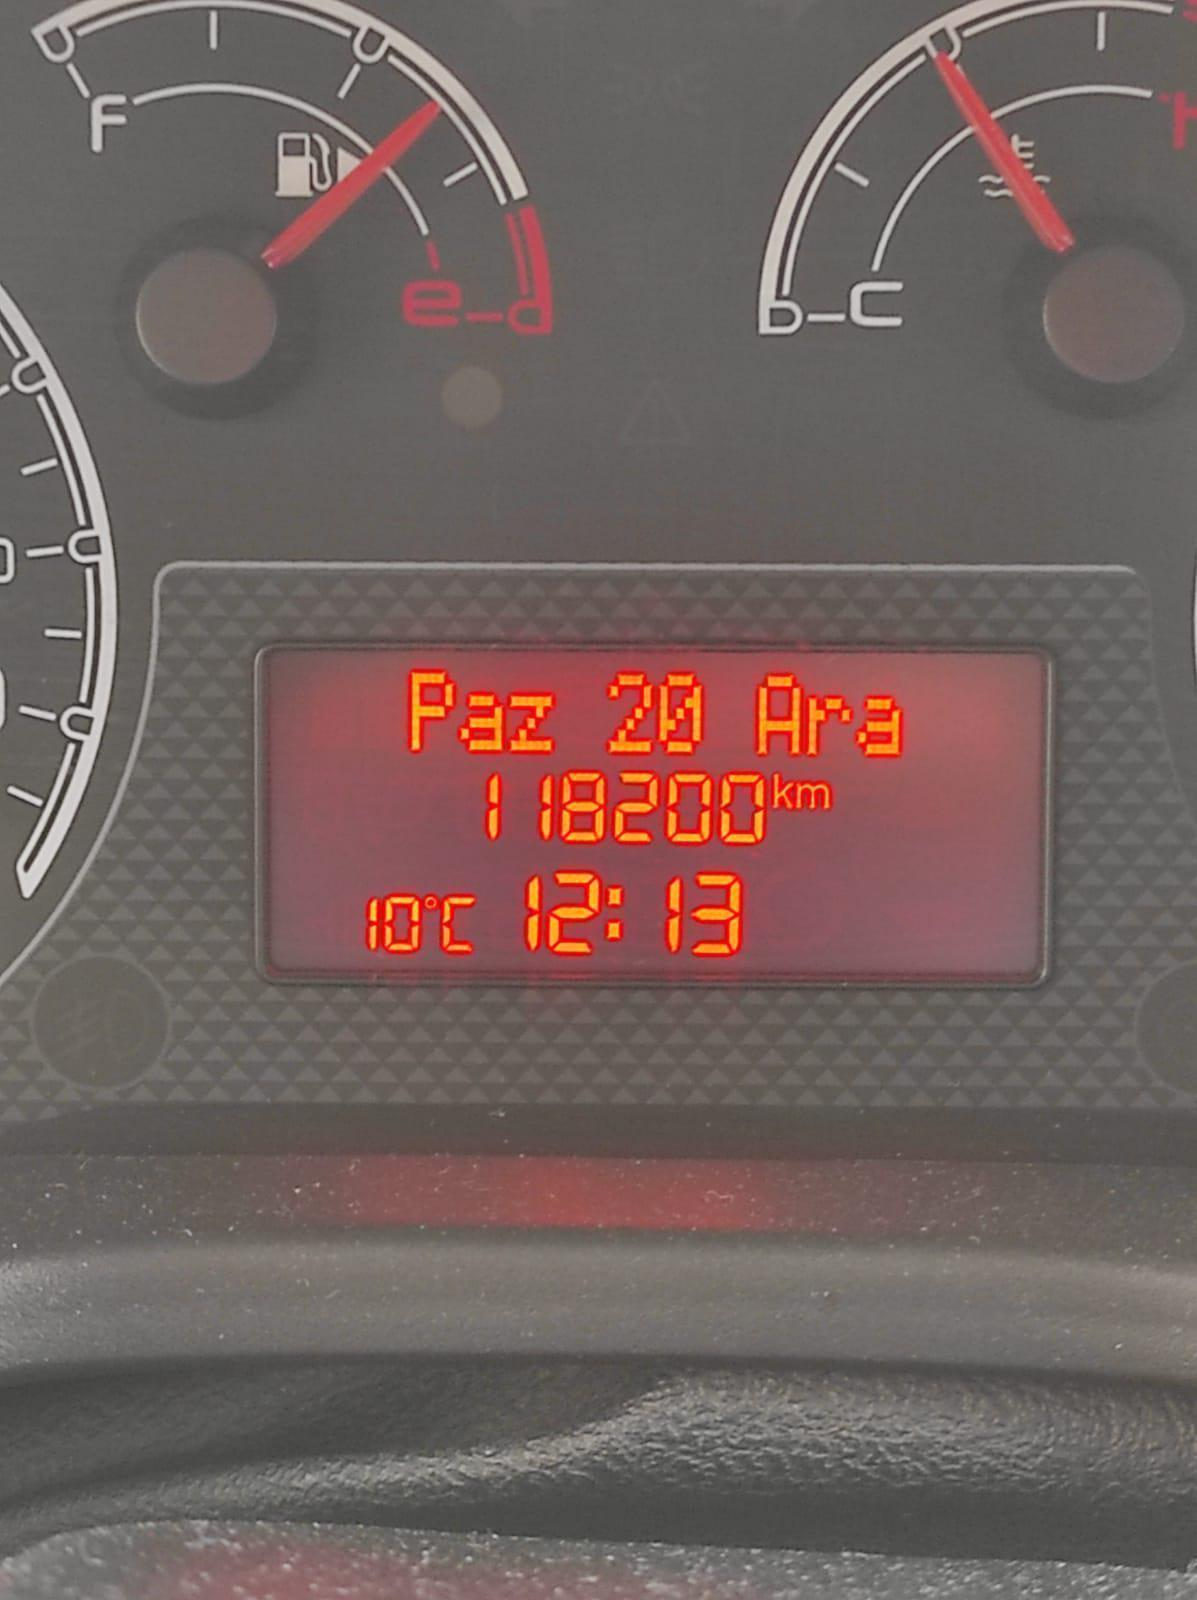0: (658, 671, 709, 755), (666, 765, 710, 847), (720, 767, 764, 847), (382, 889, 419, 955)
1: (485, 763, 508, 850), (523, 871, 543, 956), (665, 870, 684, 958), (536, 765, 556, 845), (363, 892, 381, 959)
2: (549, 866, 598, 959), (606, 669, 656, 755), (614, 768, 661, 845)
3: (689, 863, 747, 962)
8: (562, 765, 609, 847)
X: (753, 671, 805, 759), (407, 667, 455, 753), (508, 688, 560, 753), (855, 693, 904, 758), (459, 689, 505, 753), (808, 693, 847, 758), (439, 892, 479, 955), (797, 779, 834, 813), (604, 879, 622, 944), (769, 769, 796, 813)
odometer: (253, 626, 1056, 990)
